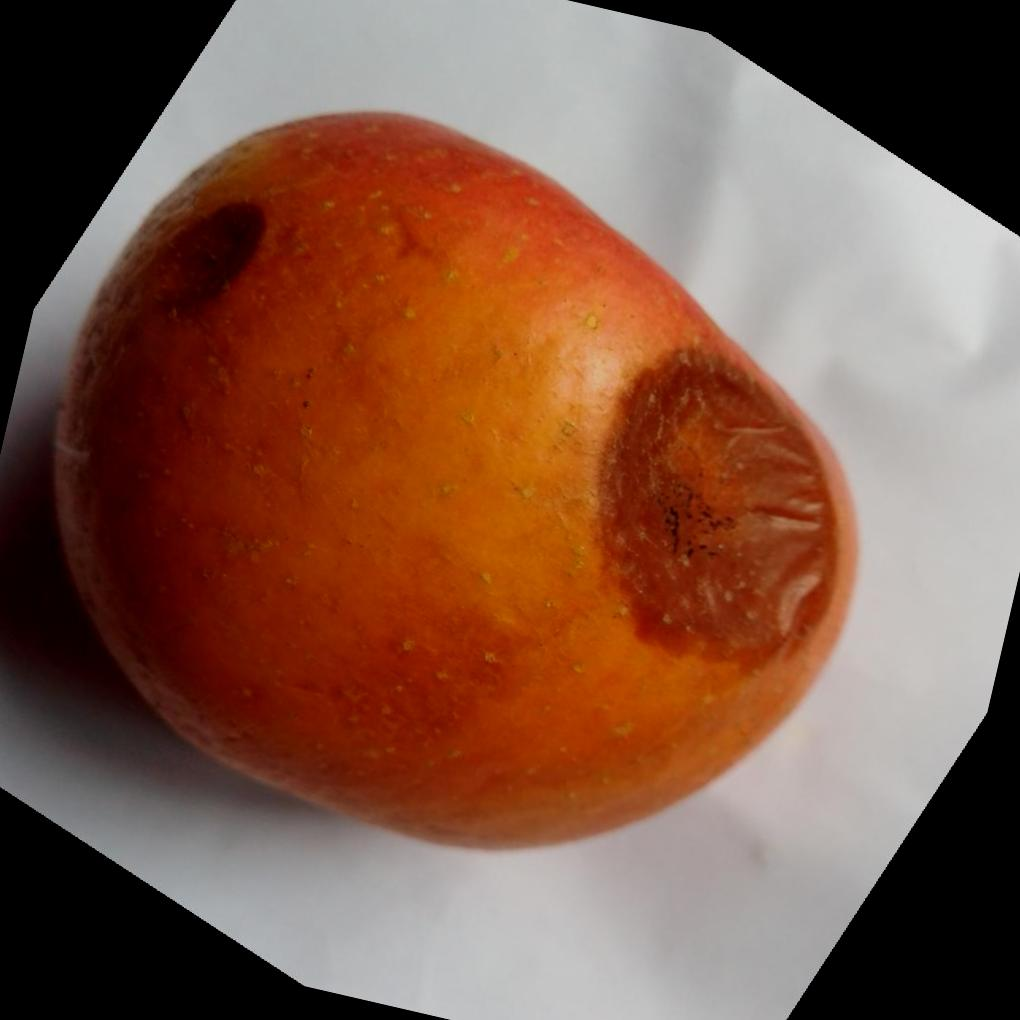FreshOrange: (46, 111, 860, 855)
